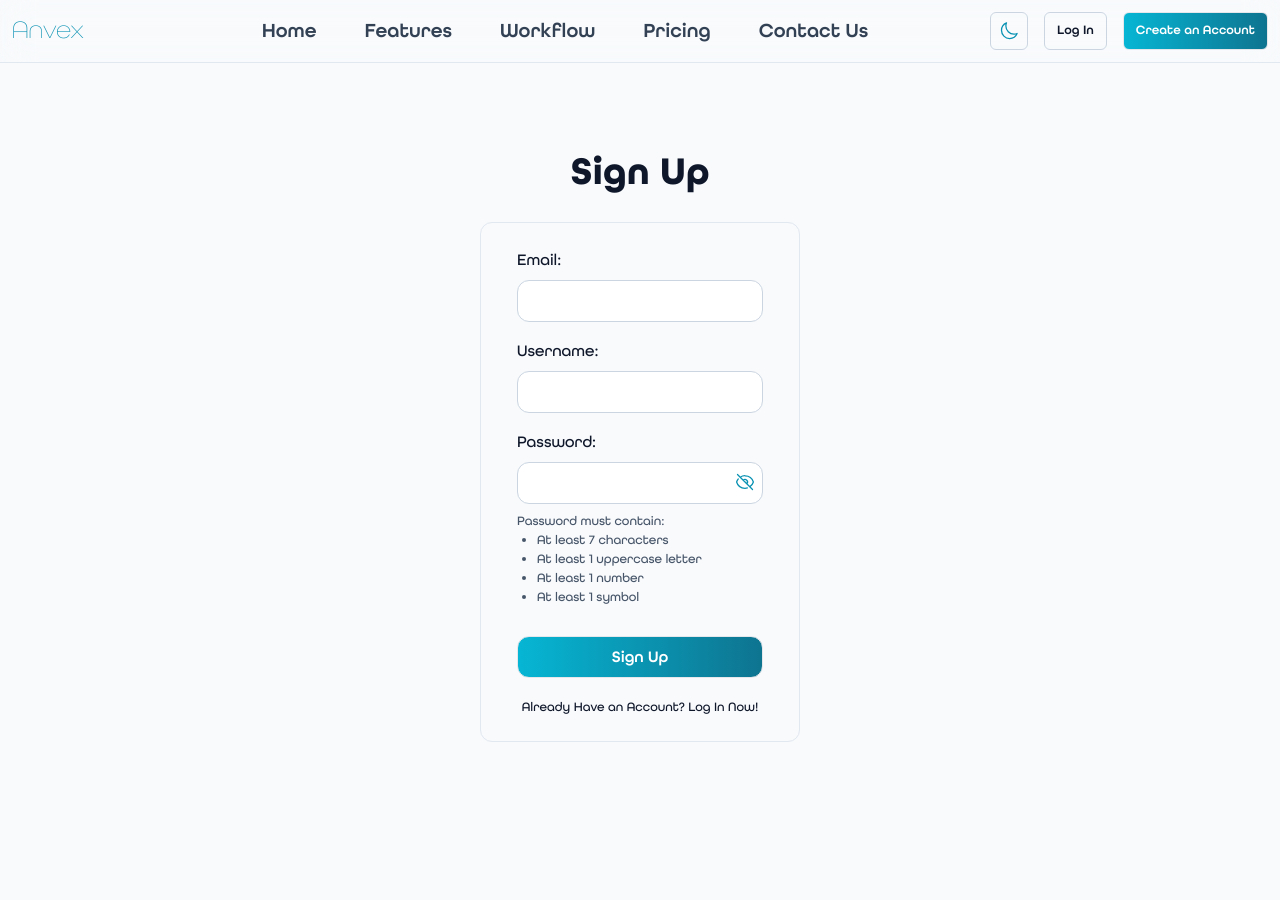
Test: validation › refuses an address that is not one
Expected: the element with test id "route-sign-up" is shown, x1=480 y1=148 x2=800 y2=742
Type "ada@example" into the field labelled "Email:".
click(640, 301); type("ada@example")  # box x1=517 y1=280 x2=763 y2=322
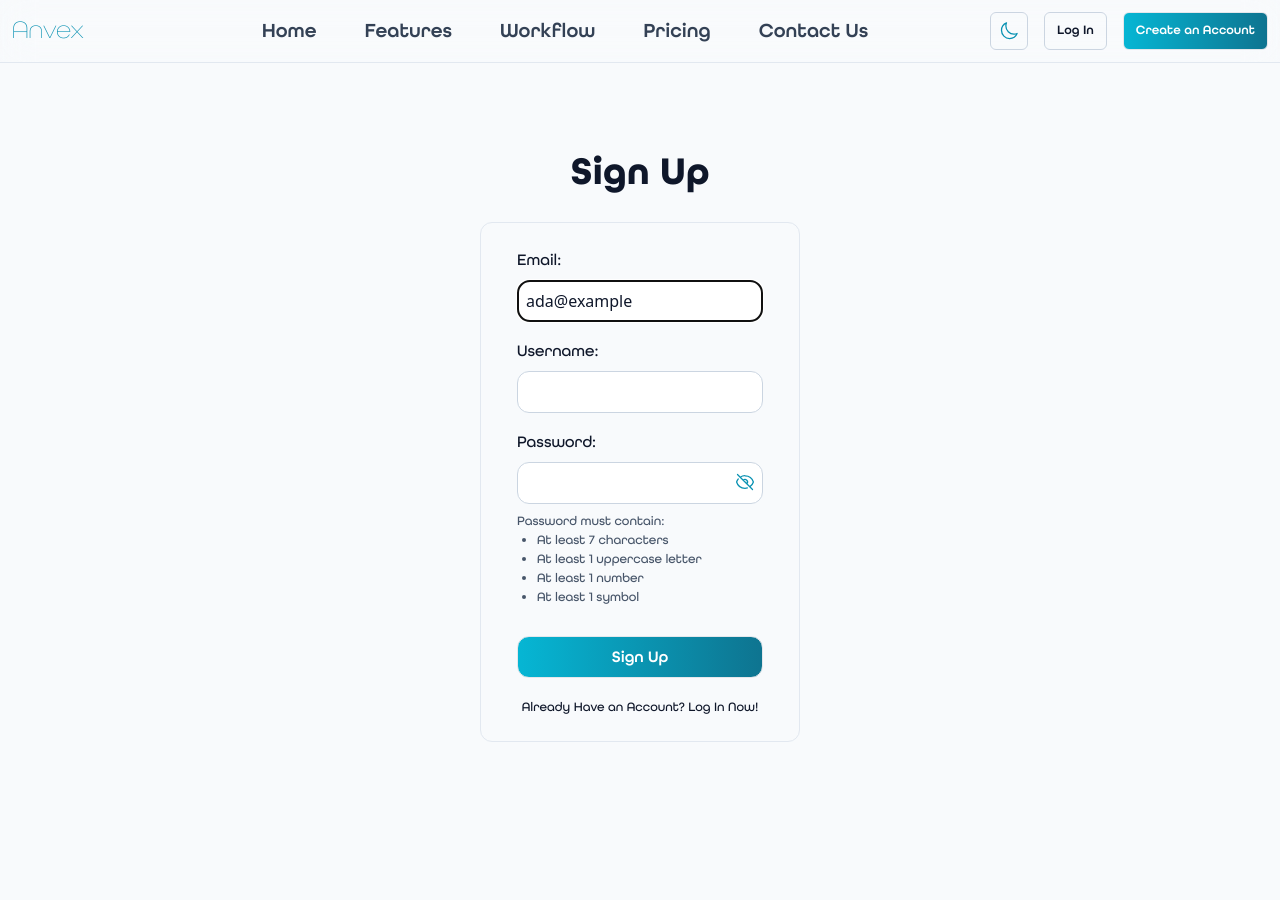
Type "adalovelace" into the field labelled "Username:".
click(640, 392); type("adalovelace")  # box x1=517 y1=371 x2=763 y2=413
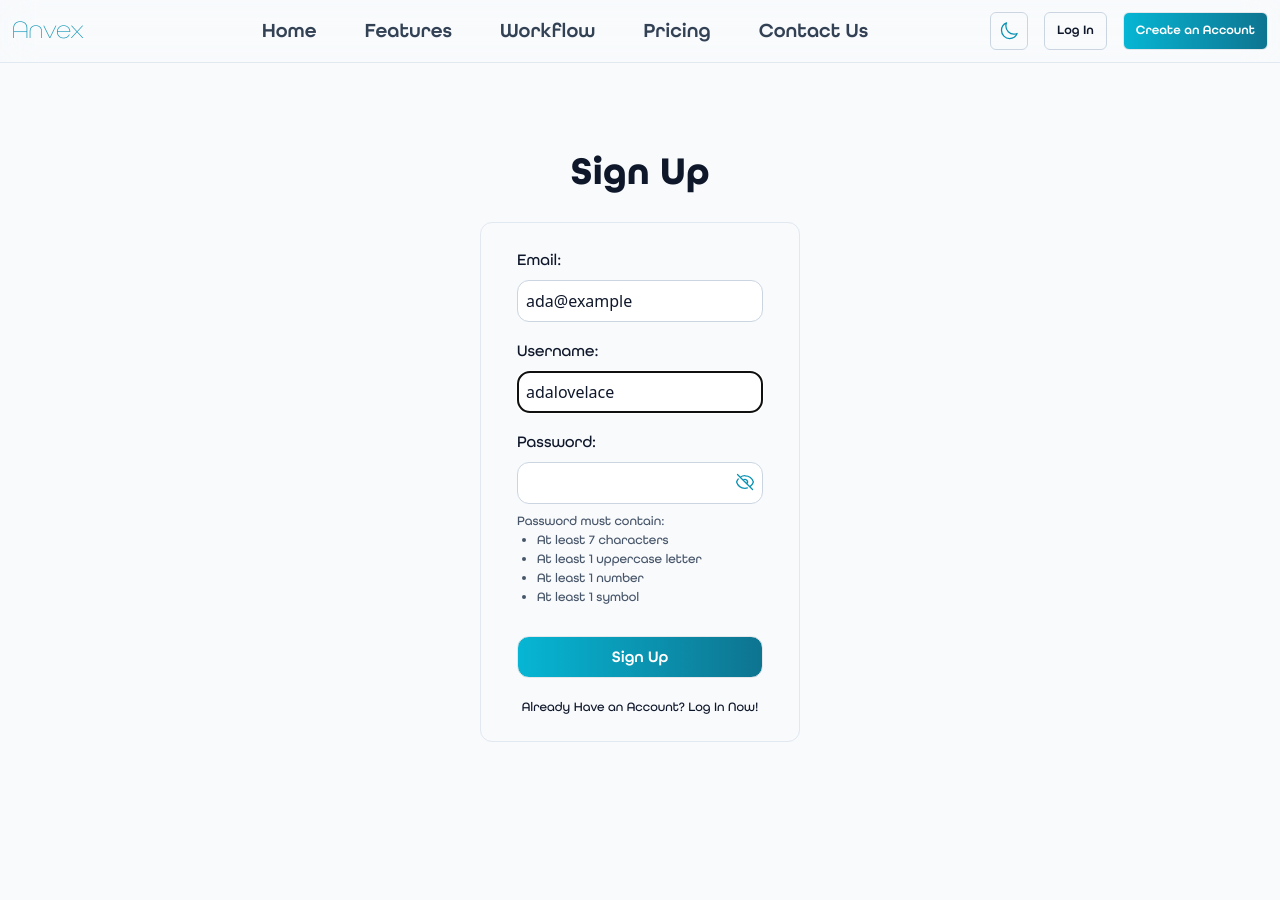
Type "Hunter2!x" into the password field labelled "Password:".
click(640, 483); type("Hunter2!x")  # box x1=517 y1=462 x2=763 y2=504
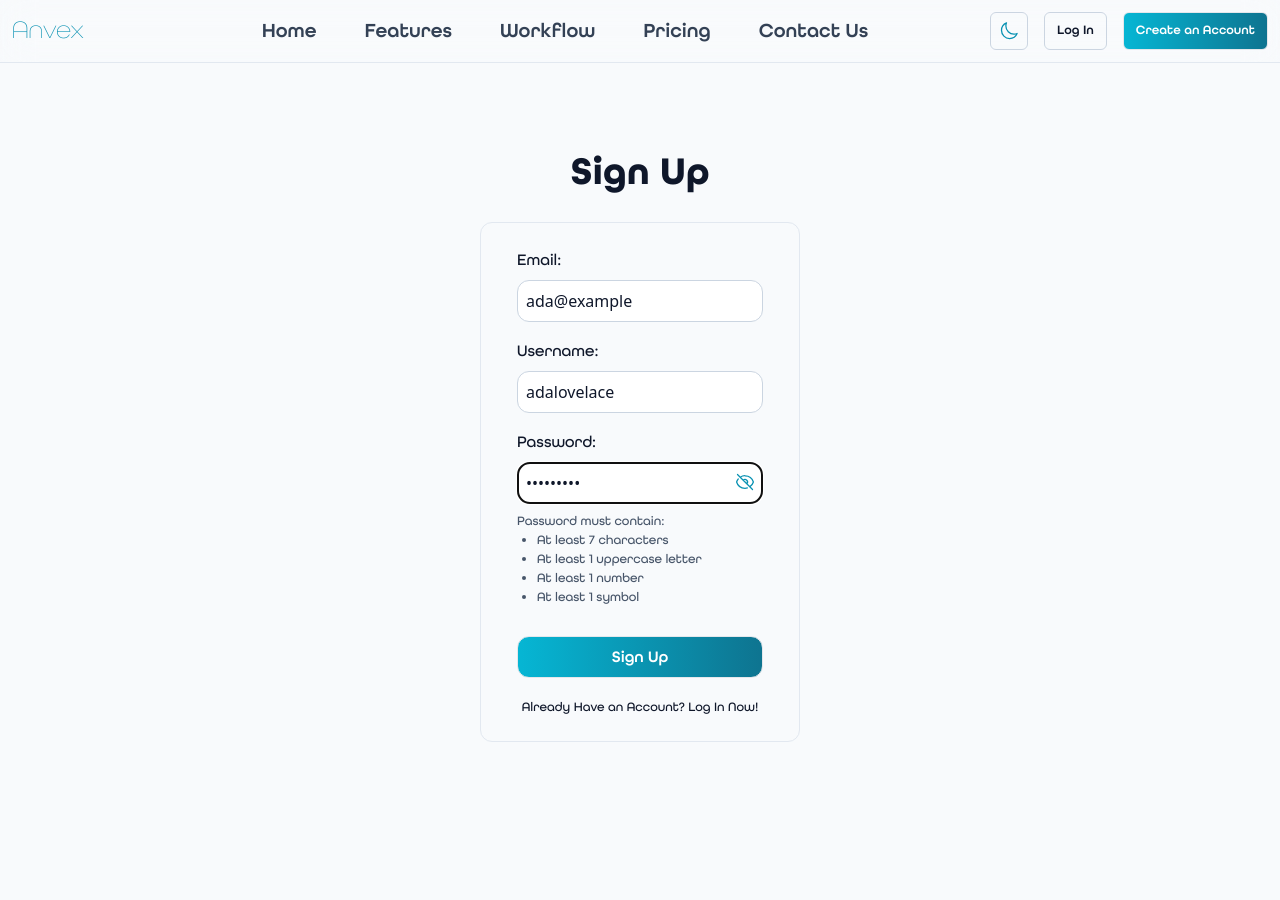
Click the button "Sign Up".
click(640, 656)  # box x1=517 y1=636 x2=763 y2=678
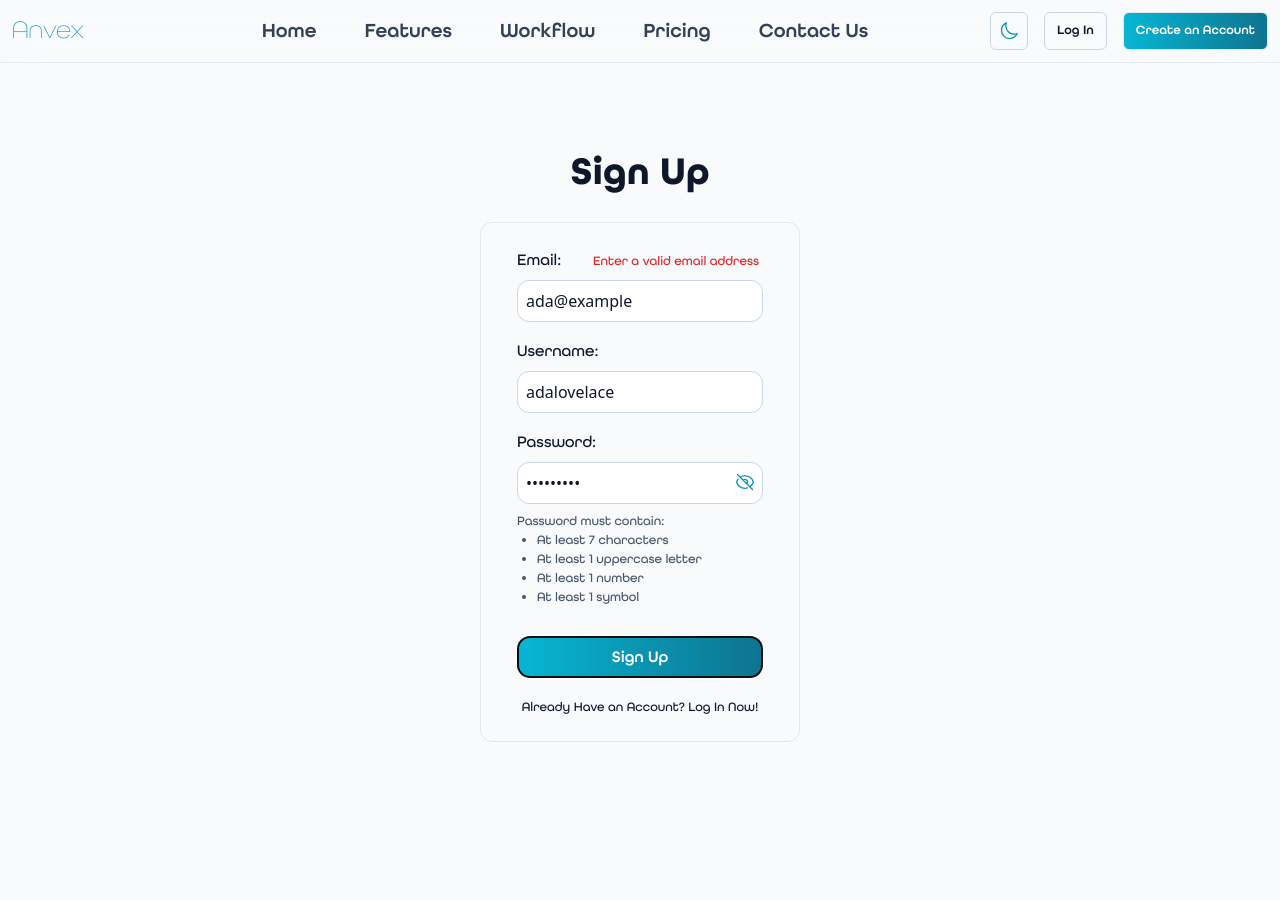
Result: the message with test id "signup-email-error" reads "Enter a valid email address" at x1=593 y1=253 x2=759 y2=269
